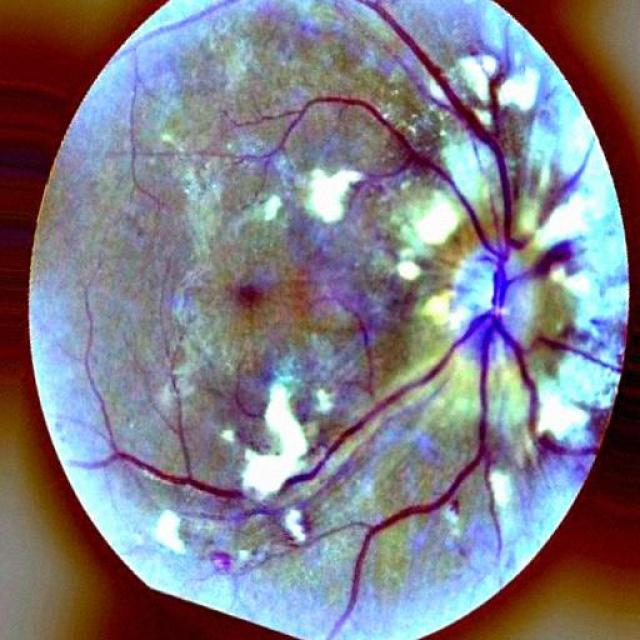Macula: (212, 261, 276, 317)
Nerves: (339, 371, 495, 617), (262, 349, 469, 506), (371, 7, 515, 232), (281, 90, 487, 236), (512, 364, 598, 462)
Optic Disk: (439, 234, 537, 359)
